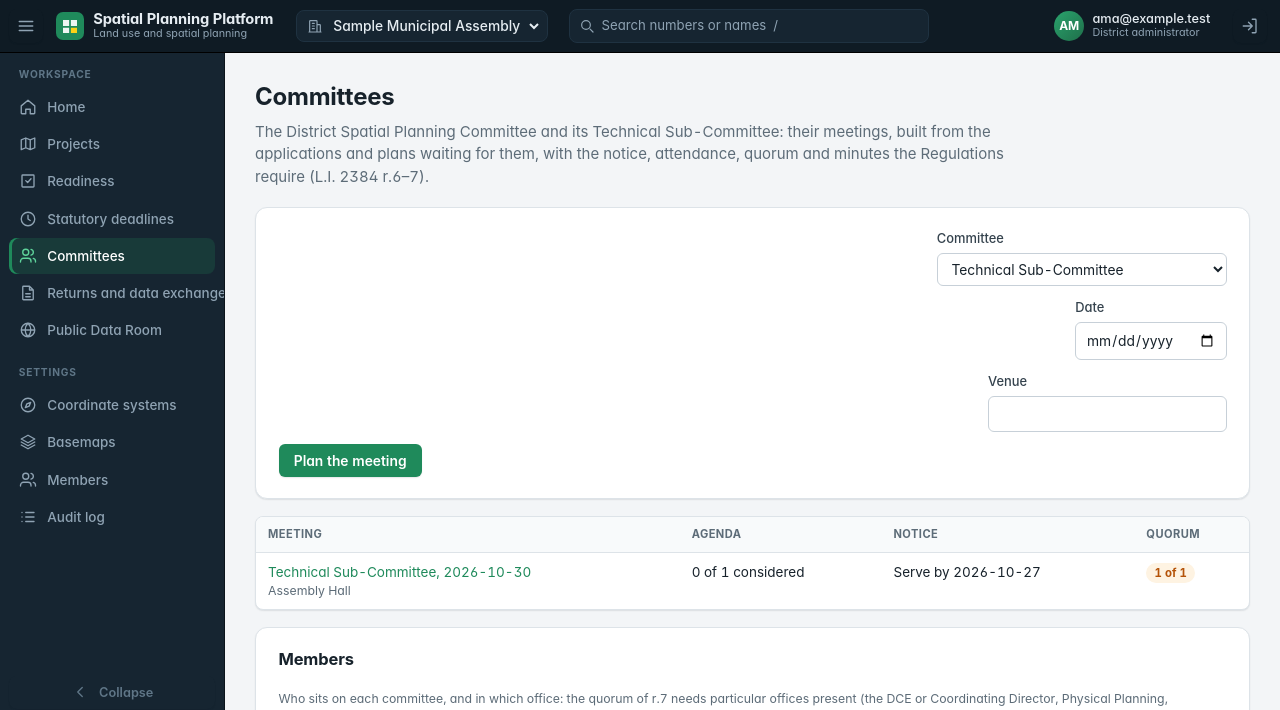
Test: committees › lists meetings with their notice and quorum, and plans a new one
Step 1. Type "2026-10-30" into the date field labelled "Date" → (1151, 341), box left=1075, top=322, right=1226, bottom=360
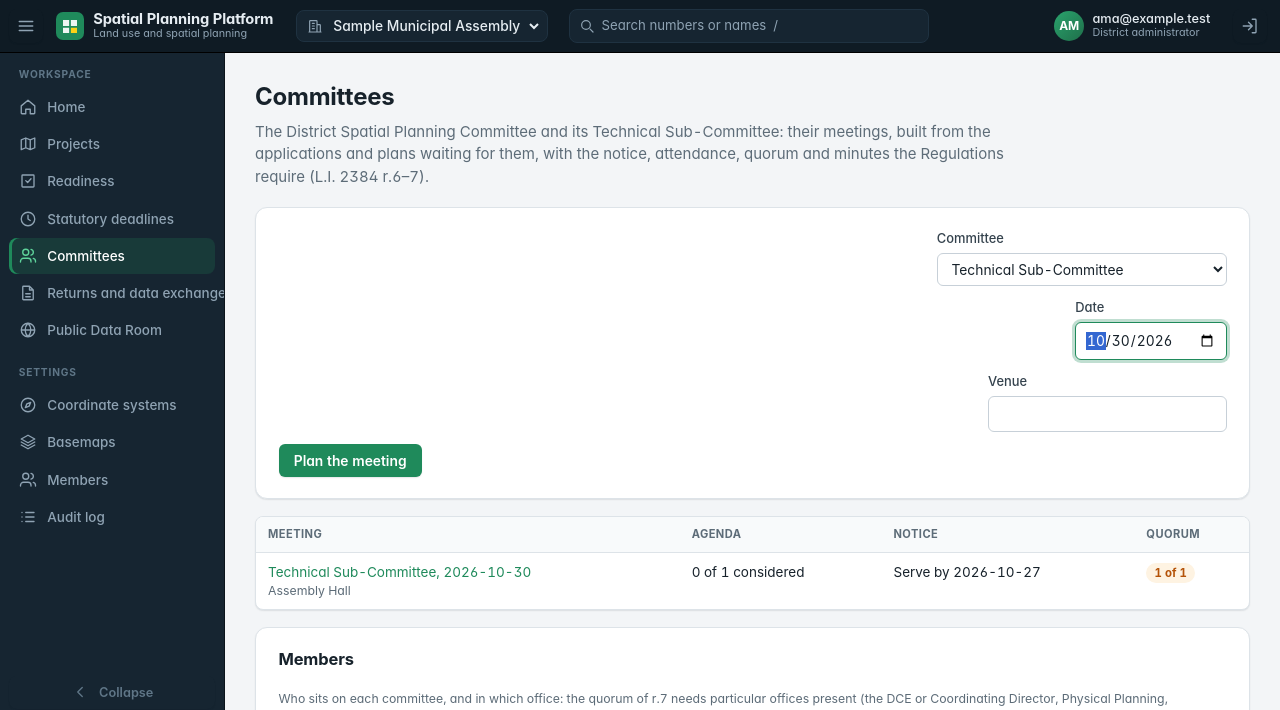
Step 2. Click the button "Plan the meeting" → click(350, 461), box left=278, top=444, right=422, bottom=477
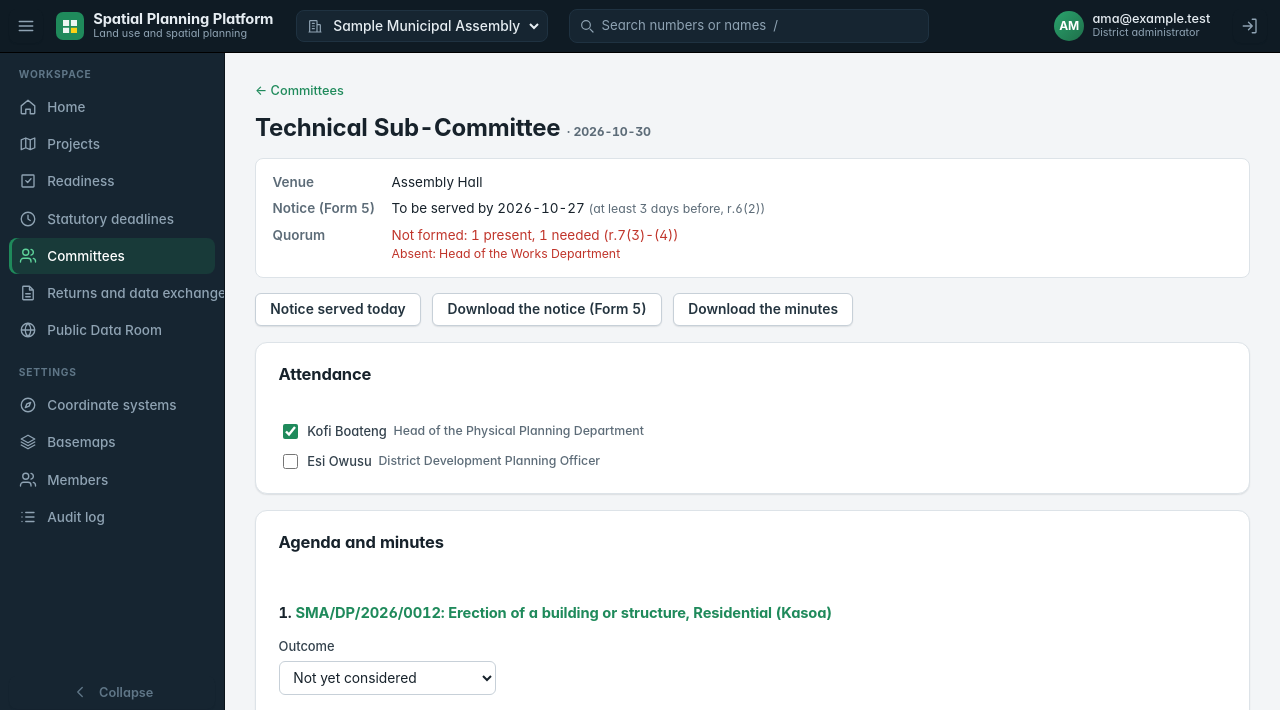
Result: the heading "Technical Sub-Committee · 2026-10-30" is shown at left=255, top=112, right=651, bottom=142
